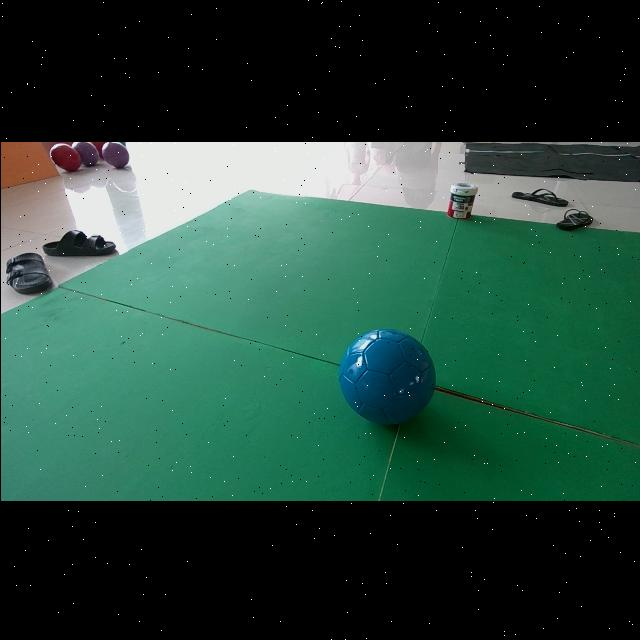B: (338, 327, 435, 423)
